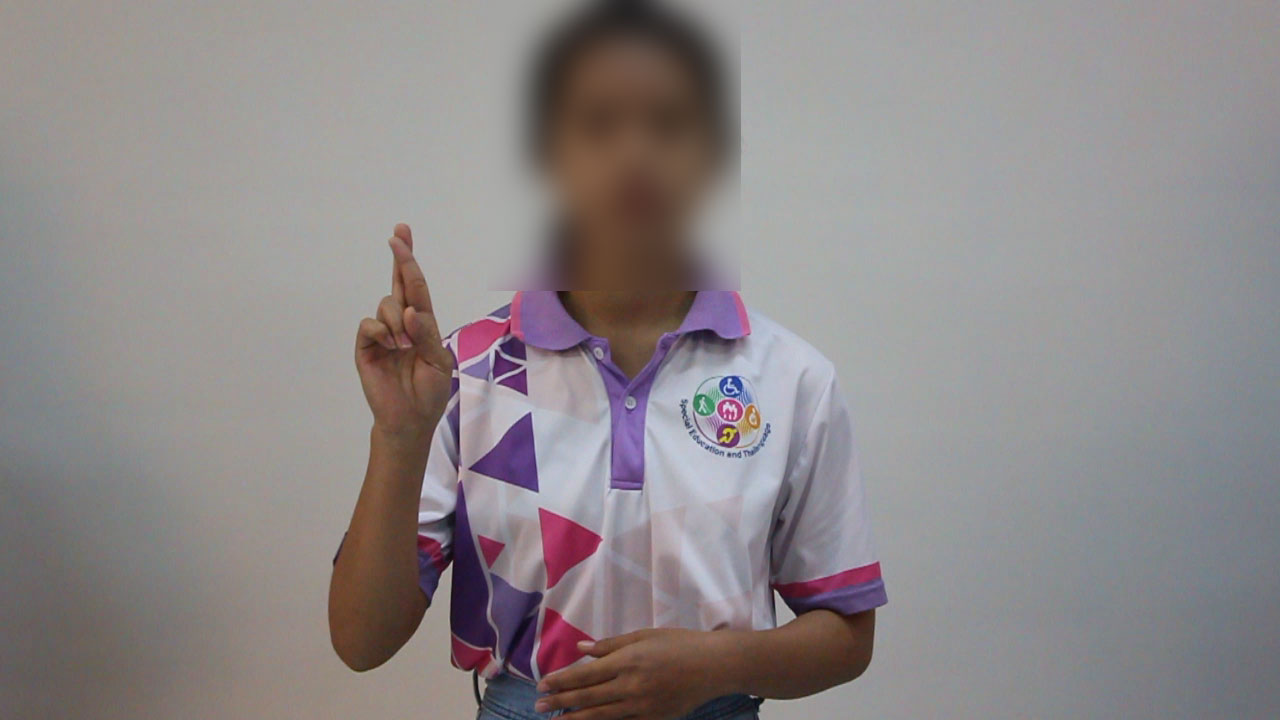rao: (344, 212, 469, 455)
